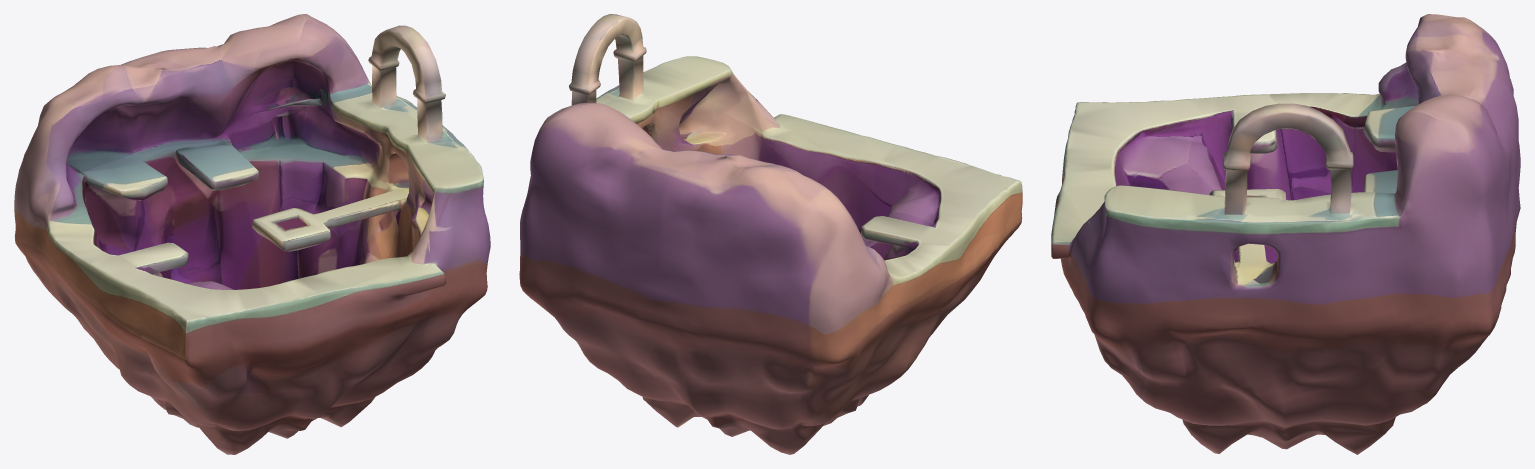
File: Habitat_8 2.glb
The picture shows the model from 3 angles, left to right: view 1: azimuth 30°, elevation 25°; view 2: azimuth 150°, elevation 25°; view 3: azimuth 270°, elevation 25°; orthographic projection. The views are drawn at different scales.
Bounding box in the file's own units: 1.89 × 1.8 × 1.9.
1 material, 1 textured.
